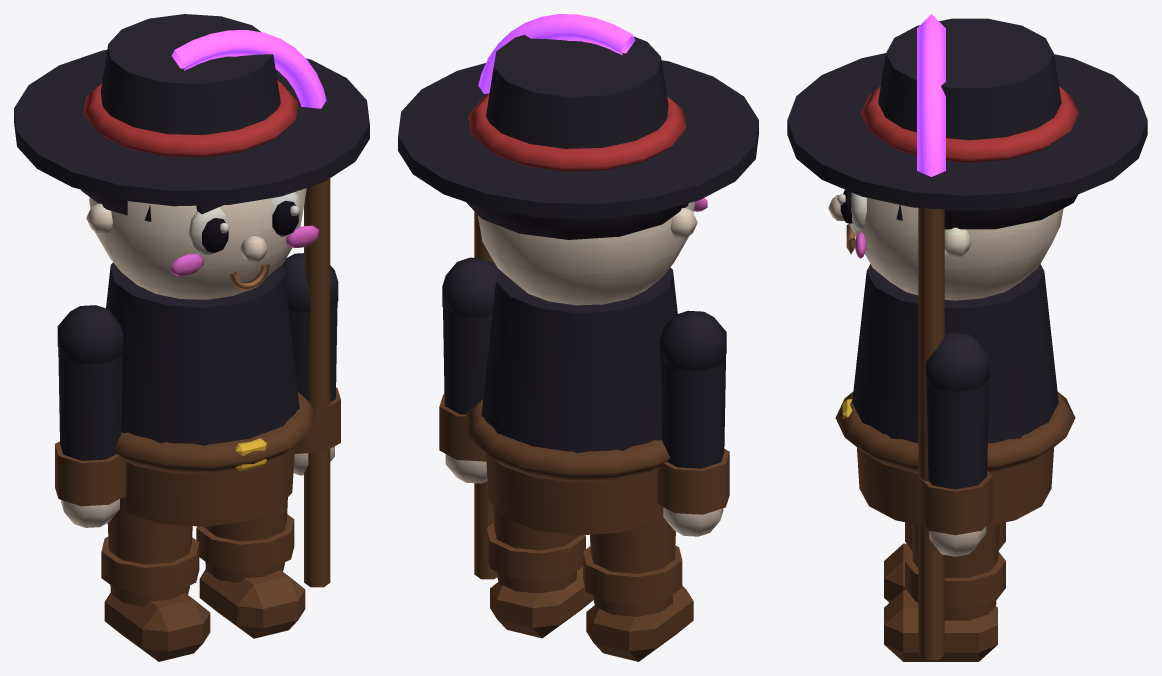
The model's file is hero_grim.glb.
The picture shows the model from 3 angles, left to right: view 1: azimuth 30°, elevation 25°; view 2: azimuth 150°, elevation 25°; view 3: azimuth 270°, elevation 25°; orthographic projection.
Visible parts, largest first — view 1: body_t0_palette, armr_t0_palette, arml_t0_palette, legl_t0_palette, legr_t0_palette, armr_t0_shadow_glow; view 2: body_t0_palette, arml_t0_palette, legl_t0_palette, armr_t0_palette, legr_t0_palette, armr_t0_shadow_glow; view 3: body_t0_palette, armr_t0_palette, legr_t0_palette, armr_t0_shadow_glow, legl_t0_palette.
Part boxes in pixels (x1,y1,x2,y2): body_t0_palette: (14, 14, 369, 526); armr_t0_palette: (283, 178, 340, 587); arml_t0_palette: (55, 305, 126, 527); legl_t0_palette: (101, 496, 210, 661); legr_t0_palette: (196, 497, 305, 638); armr_t0_shadow_glow: (171, 30, 326, 108); body_t0_palette: (398, 34, 758, 535); arml_t0_palette: (657, 310, 729, 536); legl_t0_palette: (583, 504, 693, 661); armr_t0_palette: (439, 211, 497, 579); legr_t0_palette: (486, 506, 593, 638); armr_t0_shadow_glow: (478, 14, 635, 93); body_t0_palette: (787, 18, 1147, 525); armr_t0_palette: (918, 208, 992, 660); legr_t0_palette: (884, 523, 1005, 661); armr_t0_shadow_glow: (917, 14, 945, 176); legl_t0_palette: (884, 522, 1005, 602).
Bounding box in the file's own units: 0.3 × 0.557 × 0.3.
